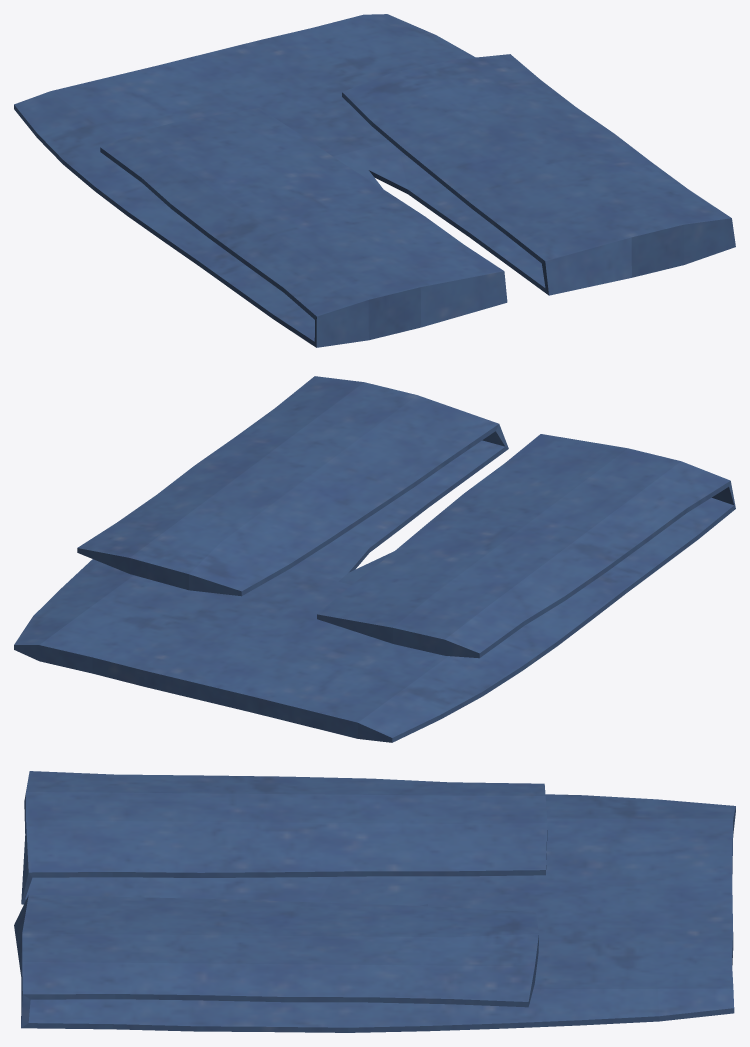
Rendered from trousers1.fbx.
3 renders of one model, top to bottom at view 1: azimuth 30°, elevation 25°; view 2: azimuth 150°, elevation 25°; view 3: azimuth 270°, elevation 25°, orthographic. The views are drawn at different scales.
Parts seen in each view (by area): view 1: trousers1; view 2: trousers1; view 3: trousers1.
Part boxes in pixels (bbox=[...]): trousers1: bbox=[14, 14, 735, 347]; trousers1: bbox=[14, 376, 735, 742]; trousers1: bbox=[14, 771, 735, 1032].
Bounding box in the file's own units: 207 × 18.35 × 269.
1 material, 1 textured.
